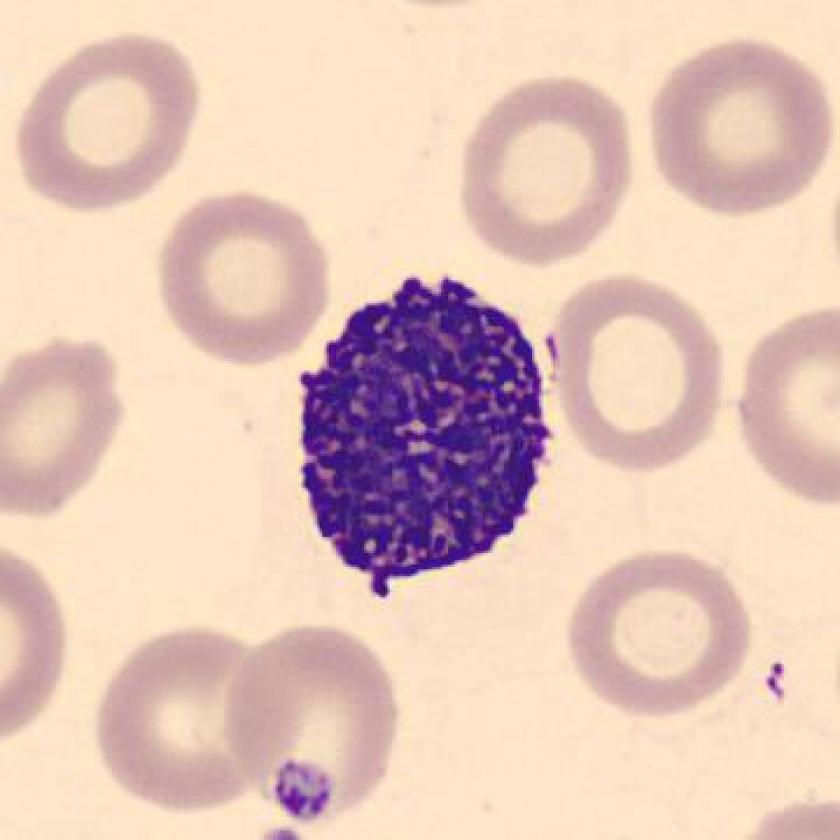basophil: (297, 265, 554, 603)
